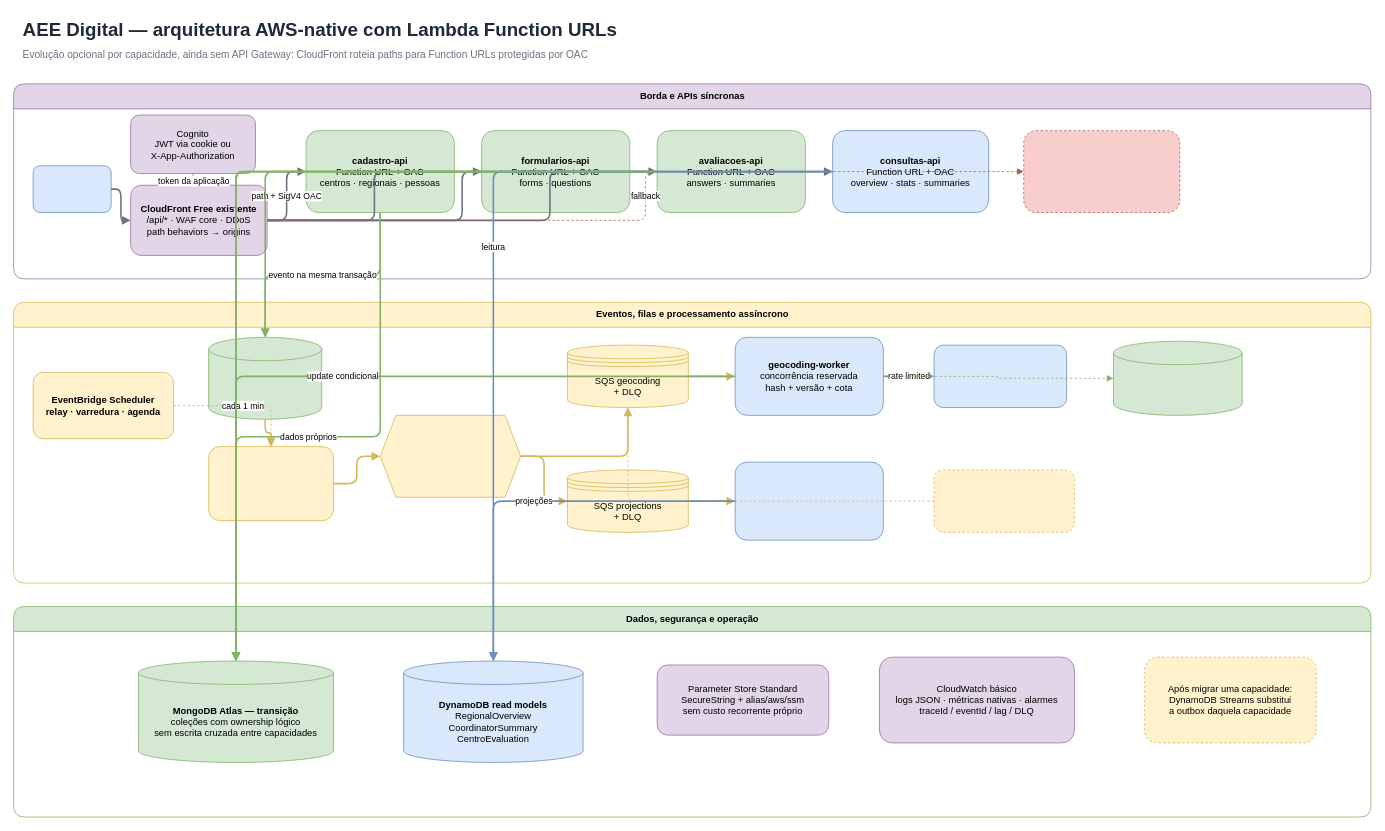
The diagram is 1385 pixels wide and 831 high, and some of its shapes have lost their labels. The shapes that lost their labels are listed below. From the top down, each one's centre as x and y in pixels, then its label:
At (71,189): "Clientes".
At (1101,171): "Lambda modular + Function URL origin/alias de fallback".
At (265,378): "Outbox Mongo escrita atômica com o agregado".
At (1000,376): "Geoapify fora do request HTTP".
At (1177,377): "DynamoDB cota diária + dedupe TTL".
At (450,456): "DomainEventPublisher fan-out direto para SQS sem custom event bus".
At (270,483): "outbox-relay lease + lote publicação idempotente".
At (808,500): "projection-worker dedupe por eventId atualização condicional".
At (1003,500): "scanner Lambda backfill paginado → SQS sem Step Functions".
